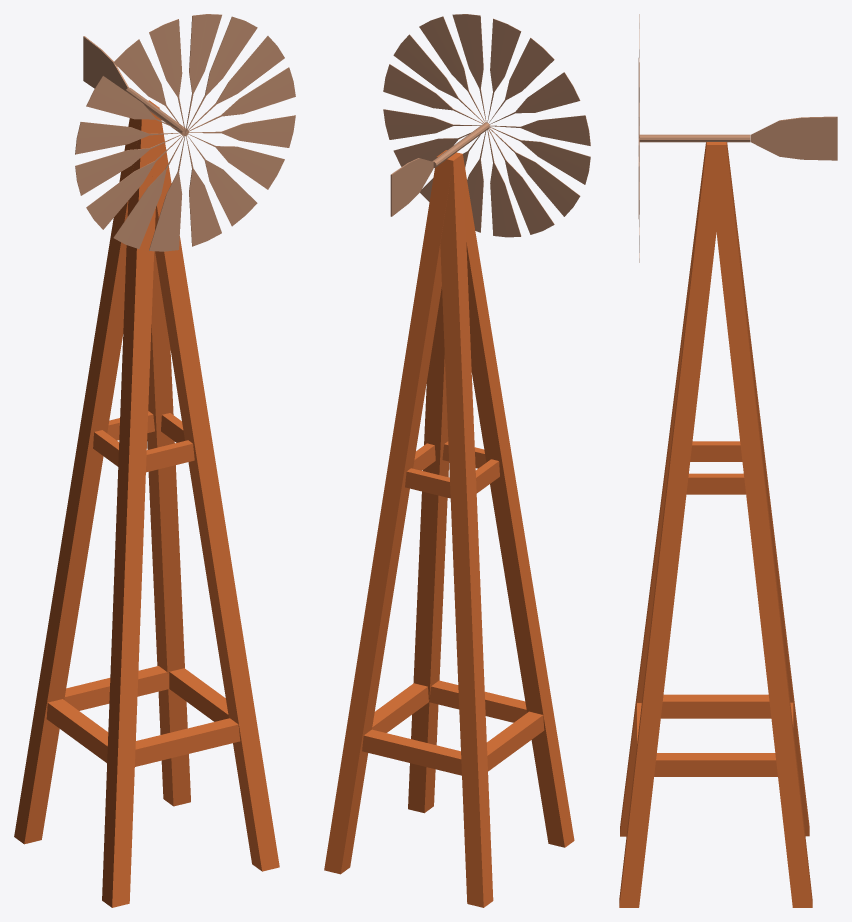
File: AirPump.fbx
The picture shows the model from 3 angles, left to right: view 1: azimuth 30°, elevation 25°; view 2: azimuth 150°, elevation 25°; view 3: azimuth 270°, elevation 25°; orthographic projection. The views are drawn at different scales.
Parts seen in each view (by area): view 1: Cube.004, Cylinder; view 2: Cube.004, Cylinder; view 3: Cube.004, Cylinder.
Boxes of the visible parts, bbox=[...] form: Cube.004: bbox=[14, 100, 279, 907]; Cylinder: bbox=[75, 14, 295, 251]; Cube.004: bbox=[324, 150, 574, 907]; Cylinder: bbox=[383, 14, 590, 237]; Cube.004: bbox=[619, 142, 812, 907]; Cylinder: bbox=[638, 14, 837, 262].
Size of the model in its own units: 85.46 by 320 by 75.11.
